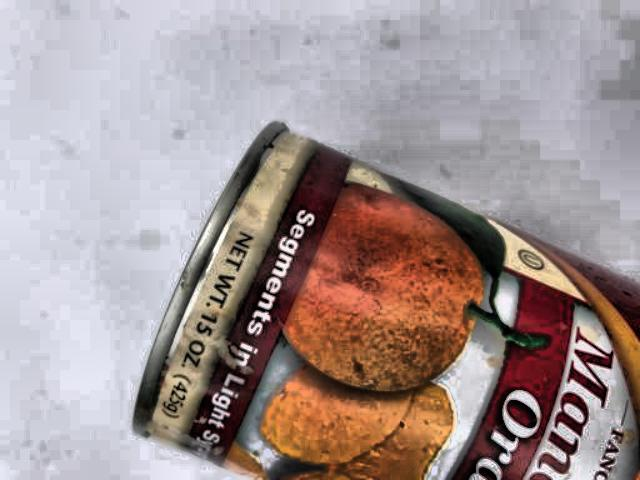Almennt: (99, 114, 640, 480)
